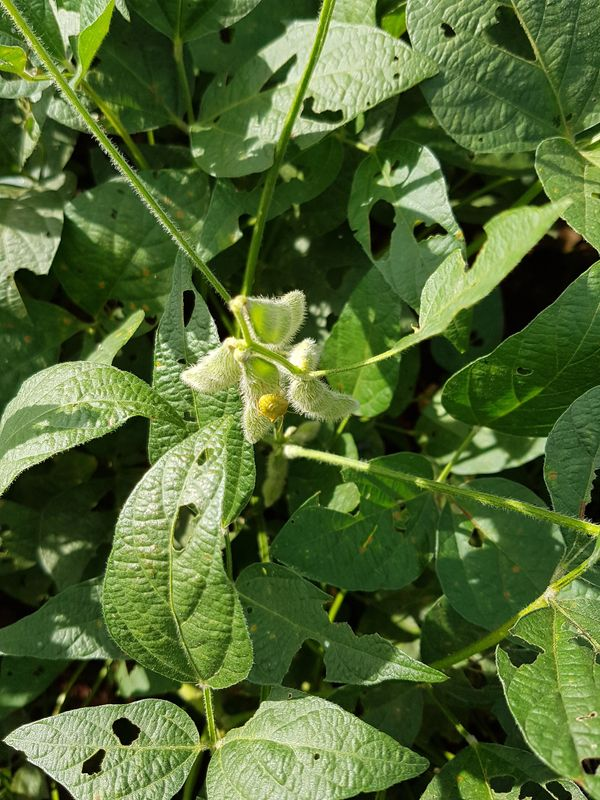Euschistus_heros_ninfa: (247, 383, 299, 431)
